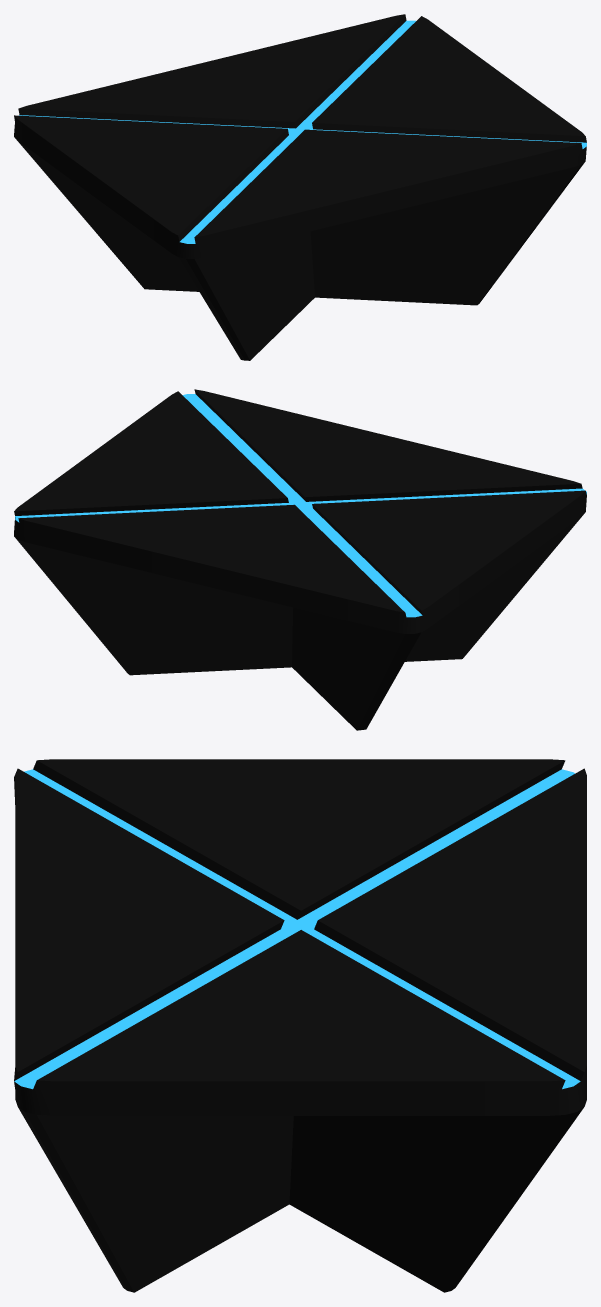
Rendered from table2.fbx.
3 views of the same model, one above another, from view 1: azimuth 30°, elevation 25°; view 2: azimuth 150°, elevation 25°; view 3: azimuth 270°, elevation 25° (orthographic). The views are drawn at different scales.
Visible parts, largest first — view 1: Box001; view 2: Box001; view 3: Box001.
Part boxes in pixels (x1,y1,x2,y2): Box001: (14,14,586,360); Box001: (14,389,586,730); Box001: (14,759,586,1292).
Size of the model in its own units: 78.74 by 31 by 59.2.
